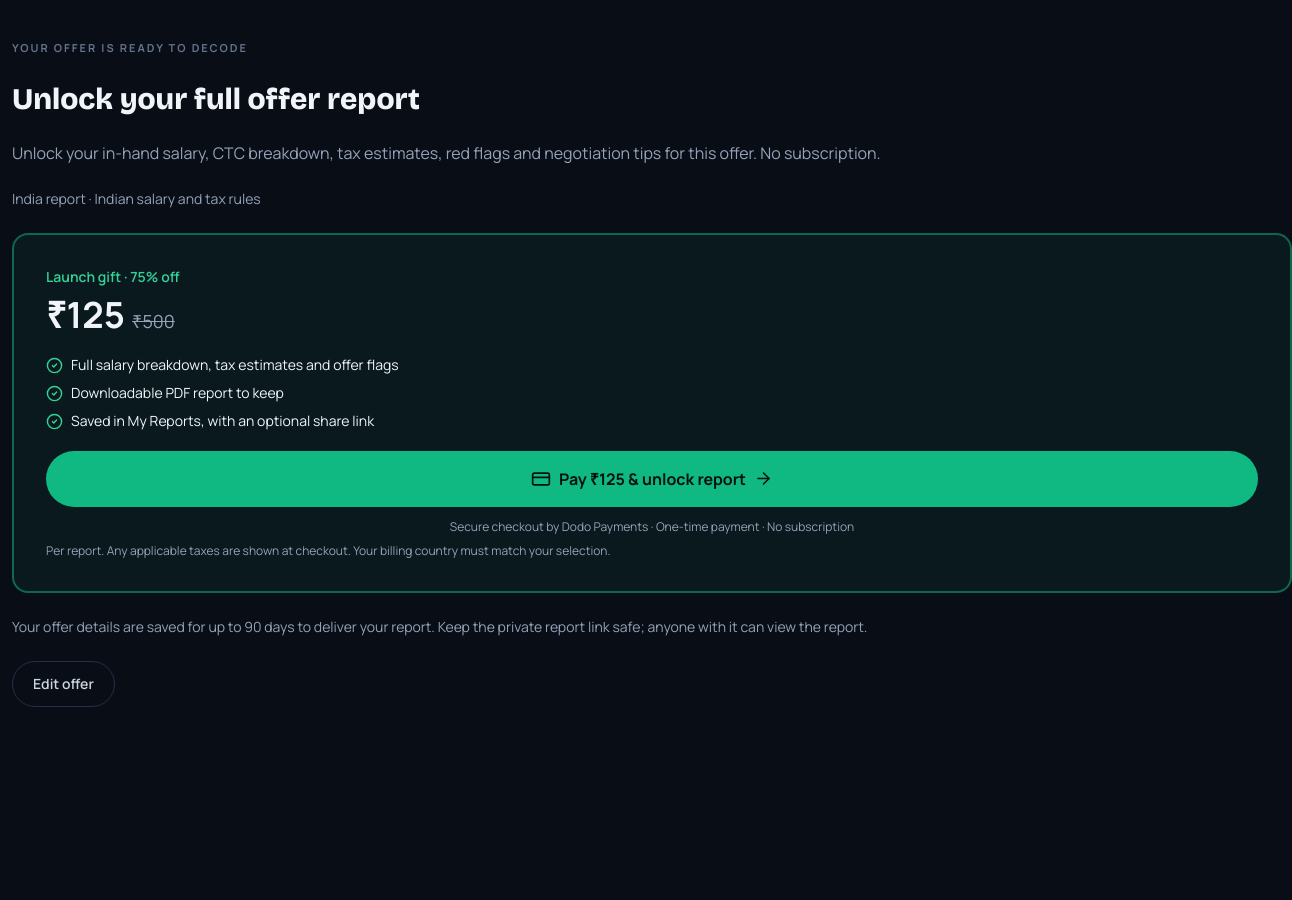
Test: in checkout shows the payment action and sends authenticated offer inputs
Click the button with test id "pay-unlock-button".
click(652, 478)  # box [46, 450, 1258, 506]
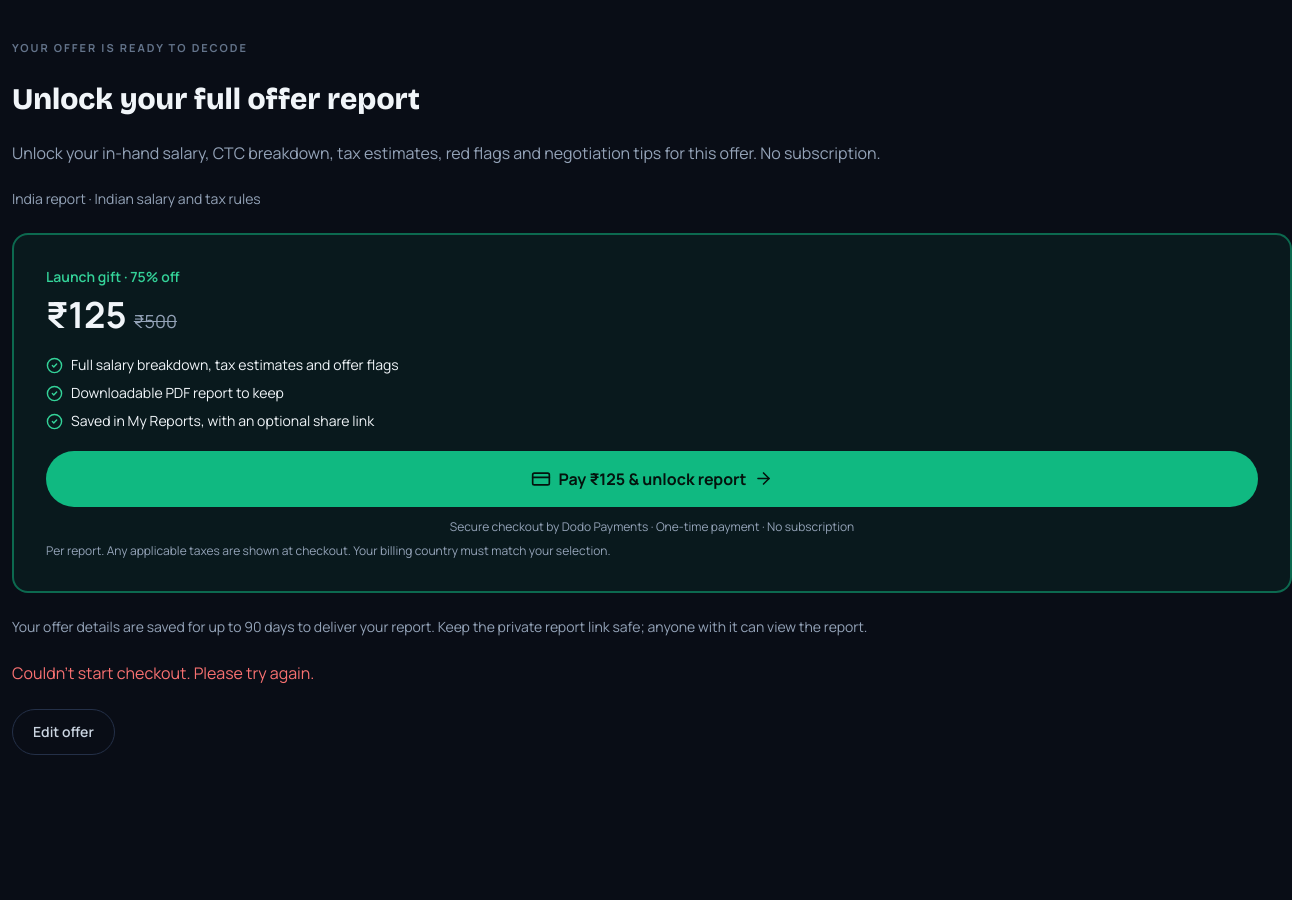
Check: the message "Couldn't start checkout. Please try again." is shown, box [12, 662, 314, 684]
